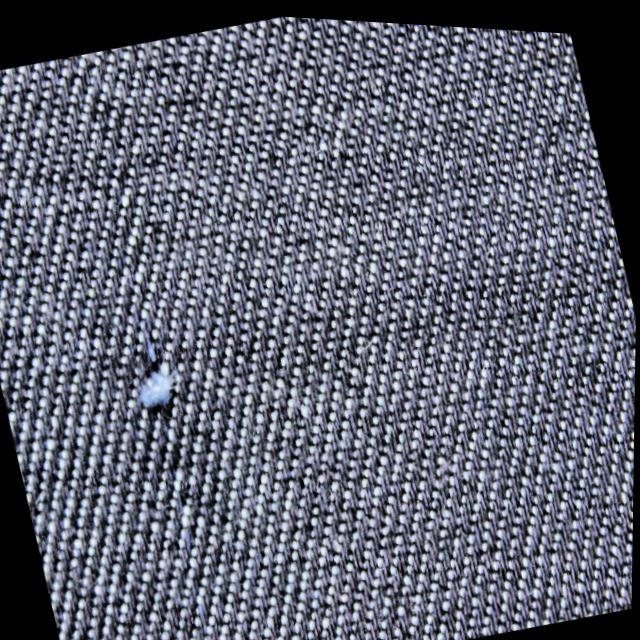Hole: (126, 326, 220, 607)
